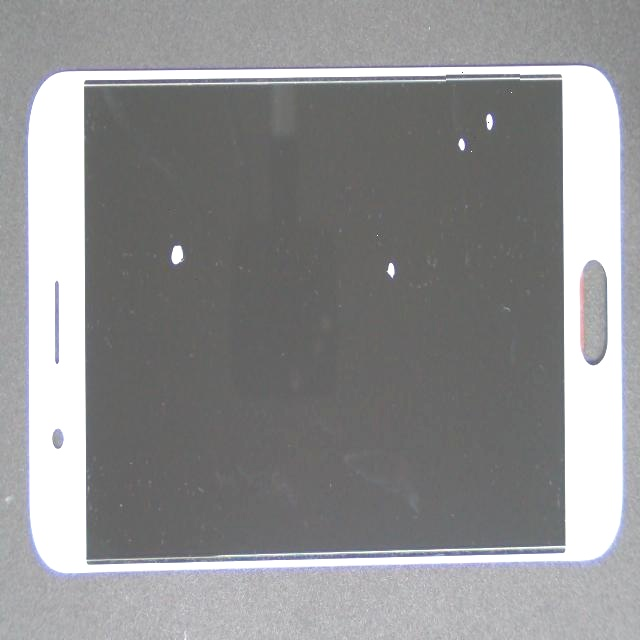stain: (188, 149, 565, 447), (224, 89, 640, 266), (79, 92, 245, 386)
